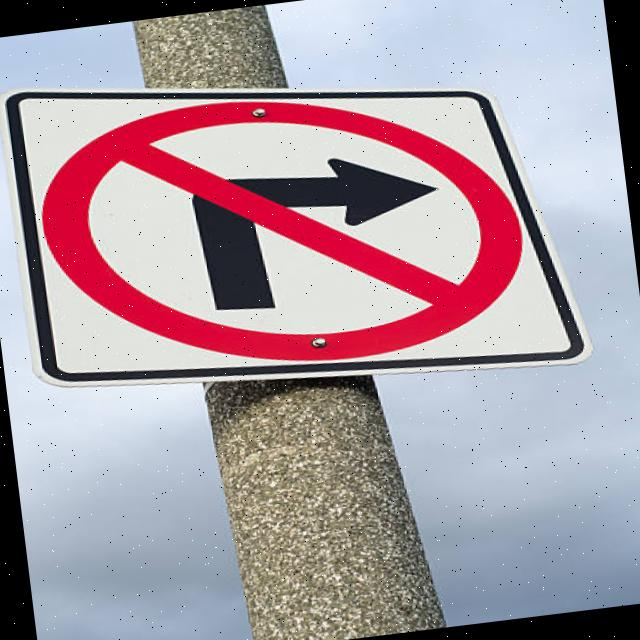do_not_turn_right: (21, 60, 542, 398)
